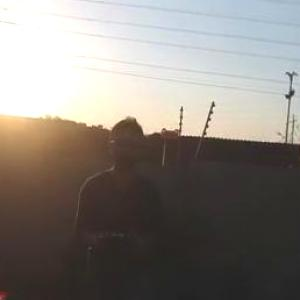follow: (64, 112, 167, 298)
